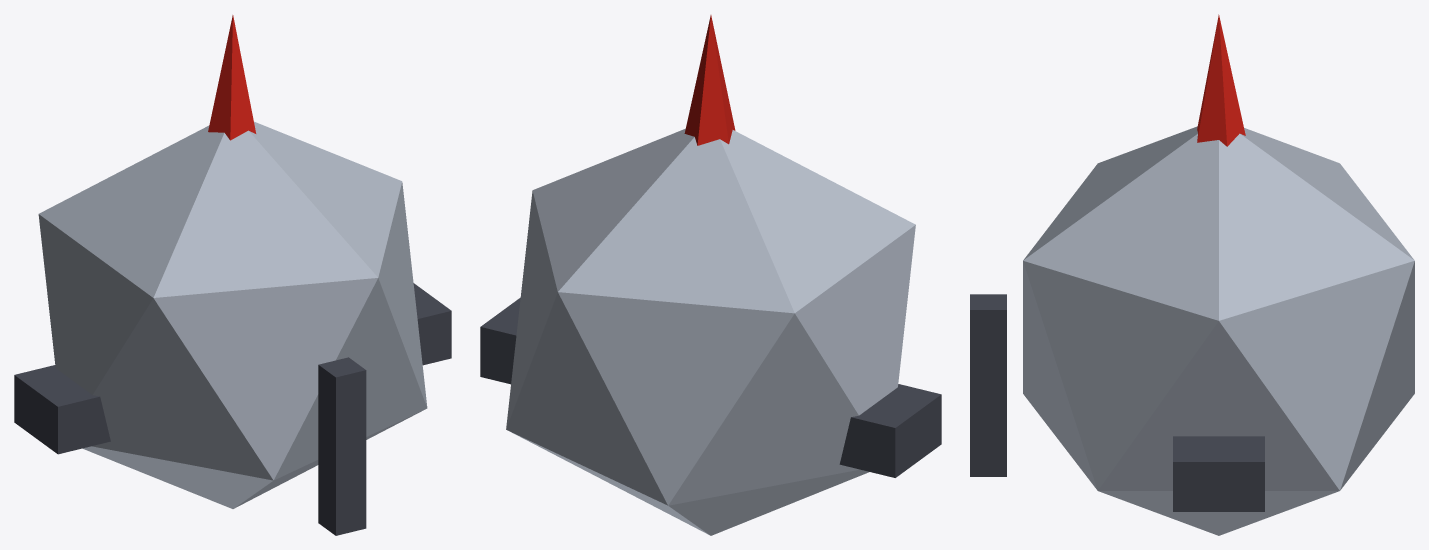
Rendered from helmet.glb.
The picture shows the model from 3 angles, left to right: view 1: azimuth 30°, elevation 25°; view 2: azimuth 150°, elevation 25°; view 3: azimuth 270°, elevation 25°; orthographic projection. The views are drawn at different scales.
Visible parts, largest first — view 1: helmet; view 2: helmet; view 3: helmet.
Part boxes in pixels (x1,y1,x2,y2): helmet: (14,15,451,535); helmet: (480,15,941,535); helmet: (970,14,1414,535).
Size of the model in its own units: 0.52 by 0.625 by 0.4827.
